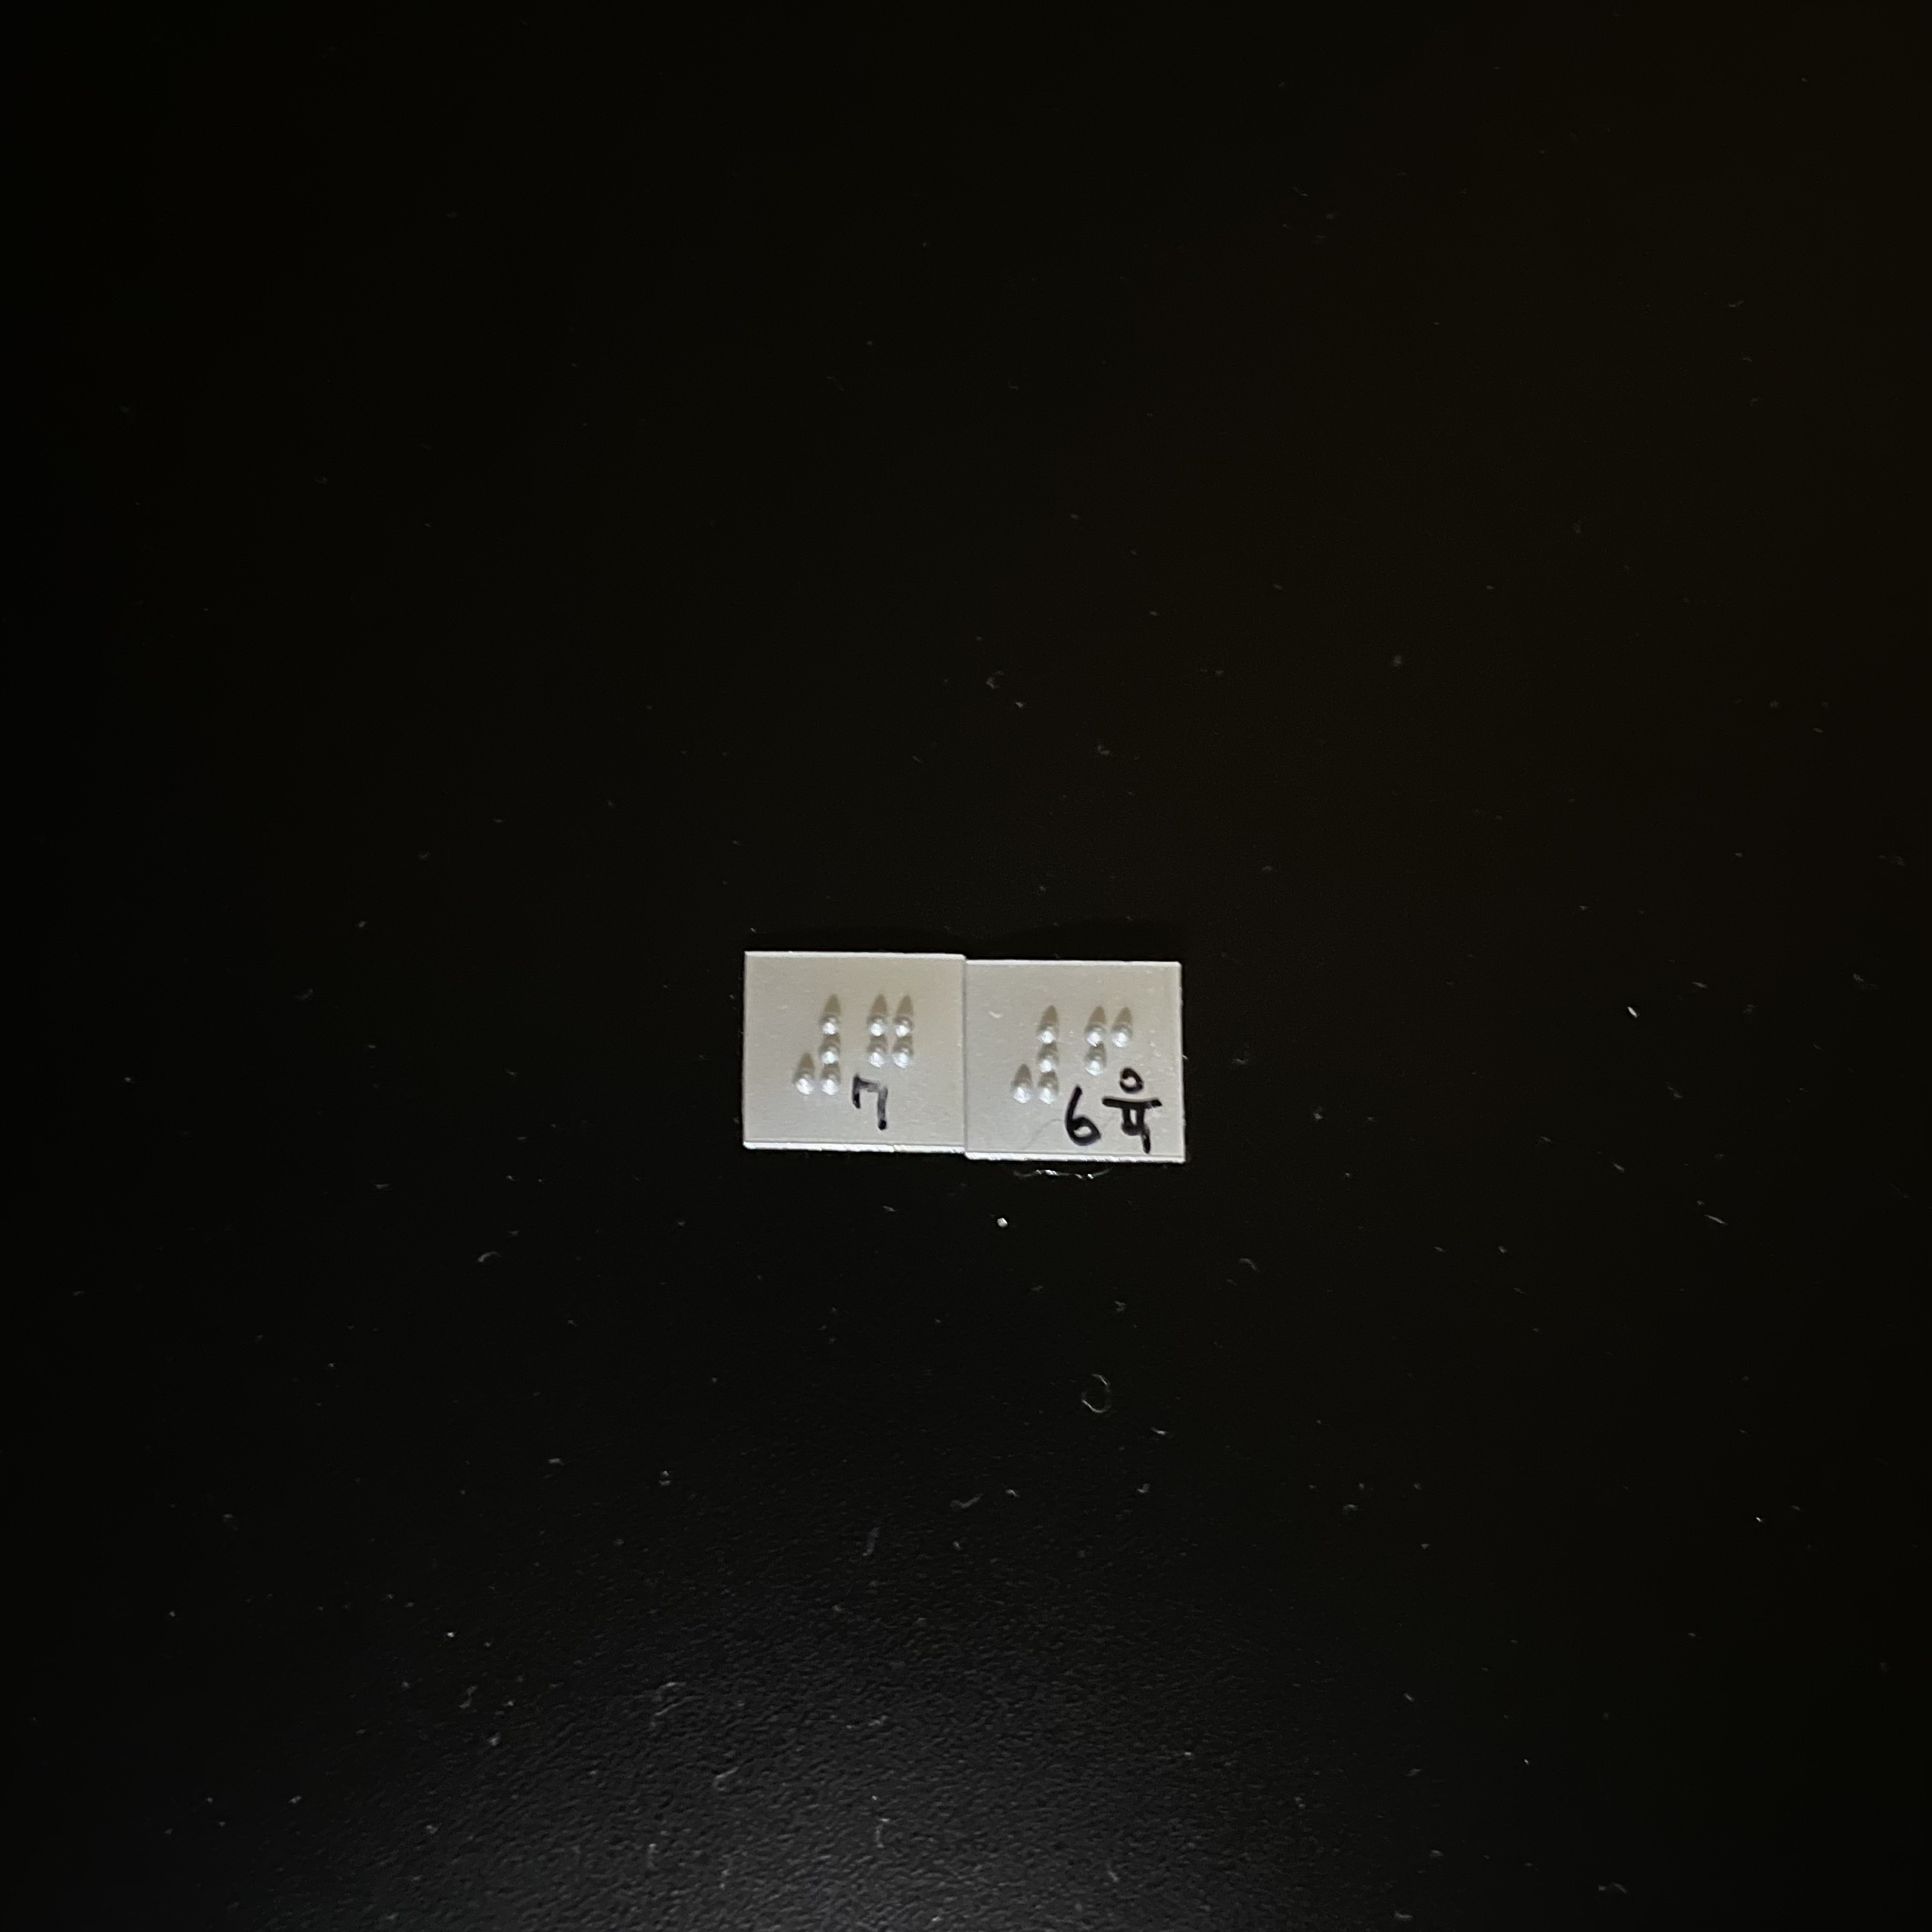#: (789, 995, 853, 1099), (1003, 1007, 1069, 1103)
f: (1071, 1011, 1144, 1108)
g: (857, 993, 924, 1103)
